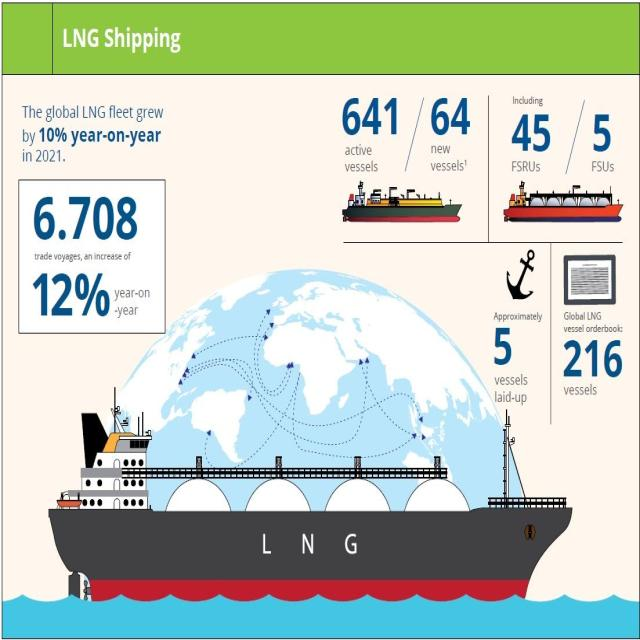boat: (41, 393, 576, 615)
